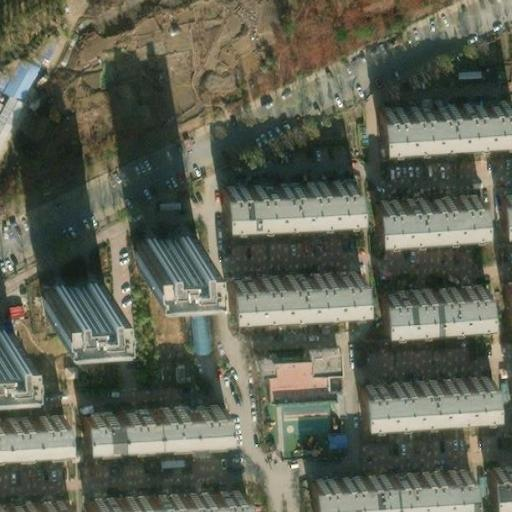building: (307, 469, 468, 508), (224, 270, 359, 311), (374, 99, 505, 141), (218, 177, 349, 218), (355, 377, 489, 417), (80, 399, 222, 435), (82, 482, 241, 512), (247, 339, 333, 393), (369, 192, 477, 234), (373, 285, 484, 323), (130, 236, 196, 271), (39, 281, 101, 315), (0, 409, 61, 441), (0, 53, 29, 94), (275, 399, 333, 418), (484, 464, 512, 500), (190, 312, 212, 355), (495, 190, 512, 225)
